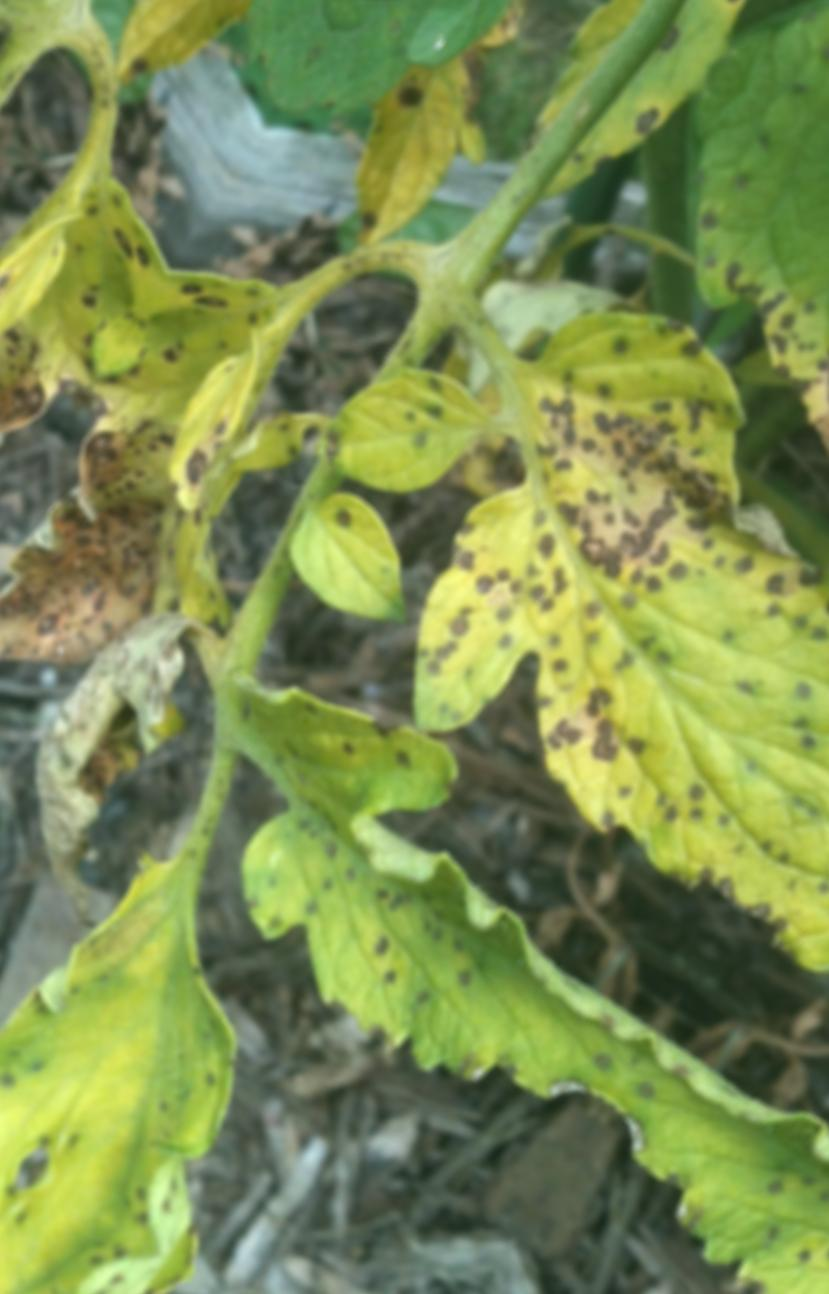Tomato Septoria leaf spot: (85, 579, 743, 1167), (295, 259, 829, 950), (0, 190, 368, 813), (452, 0, 829, 563), (0, 806, 369, 1267)
